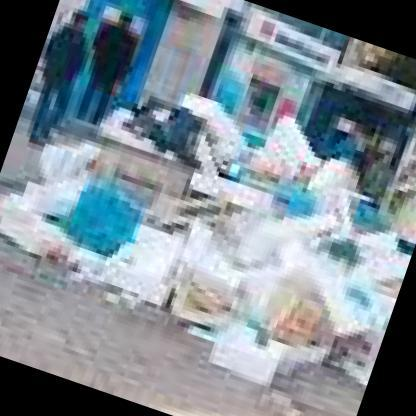Garbage: (190, 184, 412, 384), (0, 172, 207, 326), (107, 62, 268, 176), (249, 124, 370, 214)
